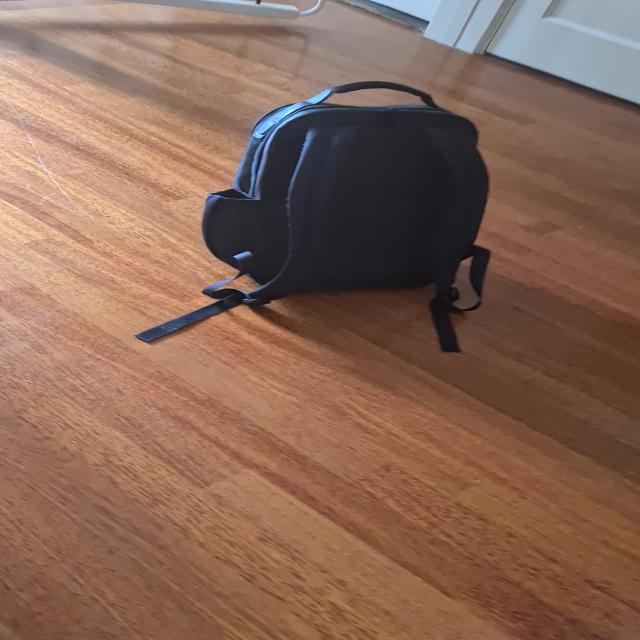backpack: (192, 73, 500, 302)
